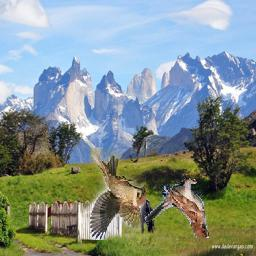Sparrow: (90, 148, 146, 240), (145, 176, 210, 239)
